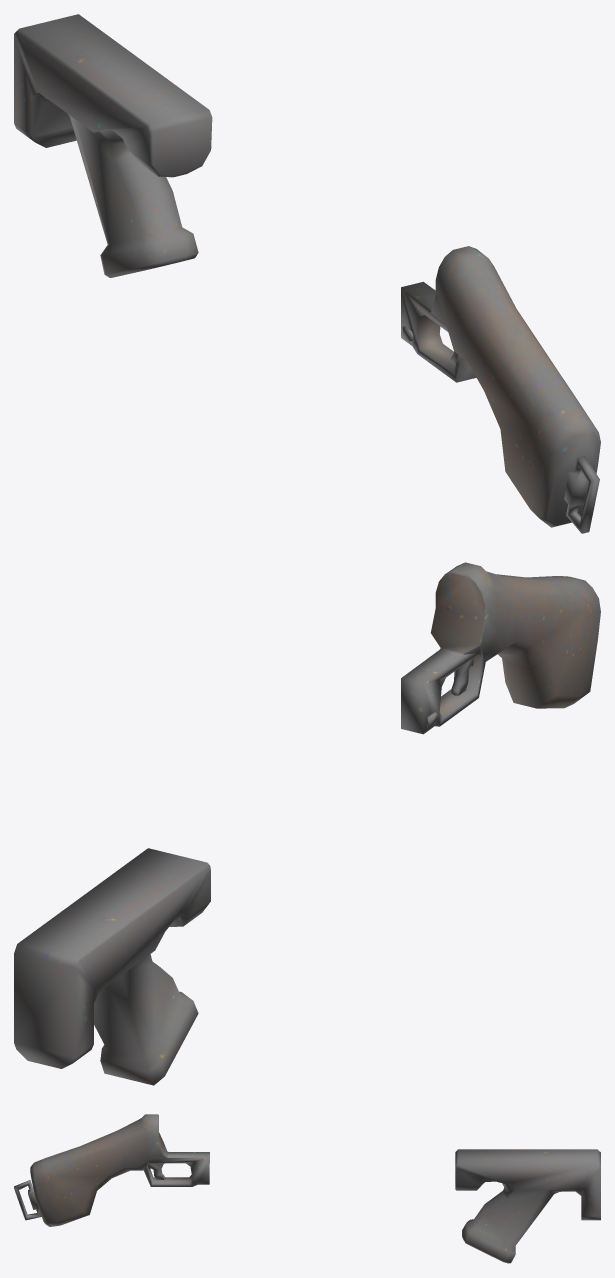
Rendered from grip2.obj.
3 views of the same model, one above another, from view 1: azimuth 30°, elevation 25°; view 2: azimuth 150°, elevation 25°; view 3: azimuth 270°, elevation 25° (orthographic). The views are drawn at different scales.
Parts seen in each view (by area): view 1: grip2; view 2: grip2; view 3: grip2.
Boxes of the visible parts, x1,y1,x2,y2 form: grip2: [14, 14, 600, 533]; grip2: [14, 562, 600, 1085]; grip2: [14, 1114, 600, 1263].
Bounding box in the file's own units: 4.94 × 20.39 × 76.7.
